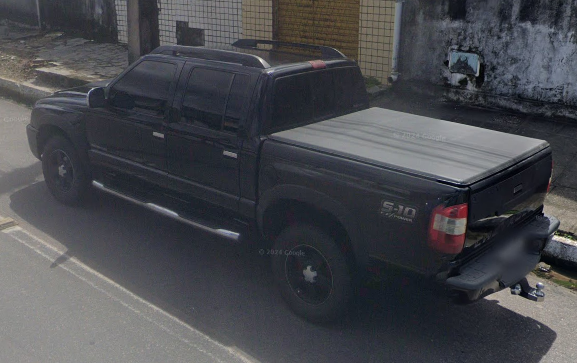car: (28, 40, 560, 327)
